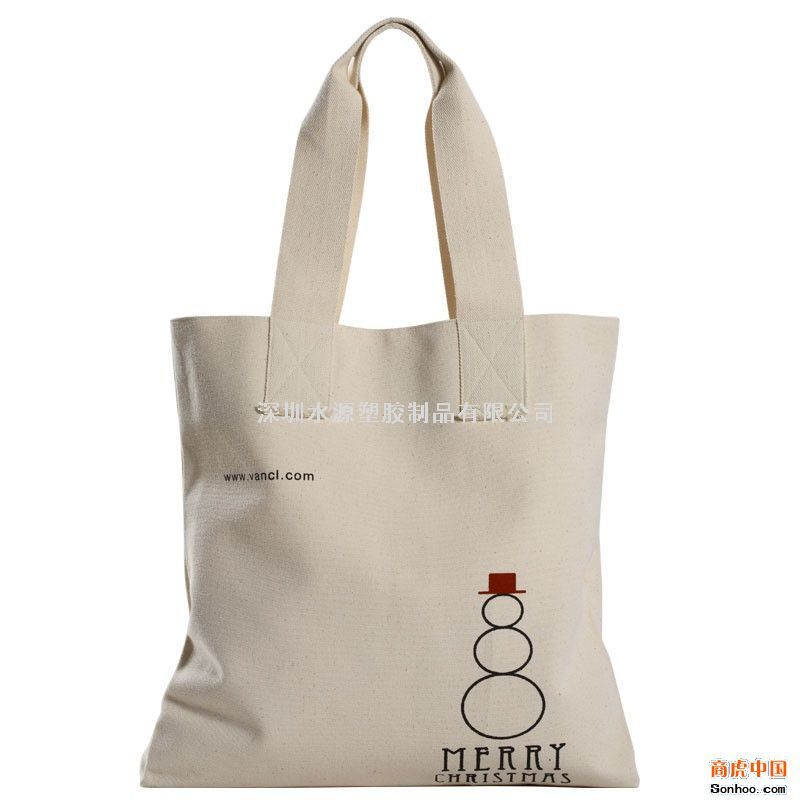flexible: (138, 16, 649, 799)
